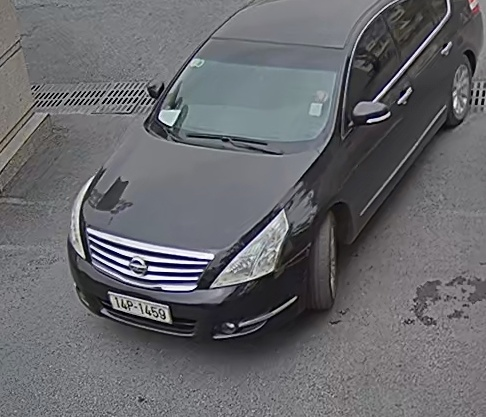vehicle plate: (97, 282, 173, 330)
